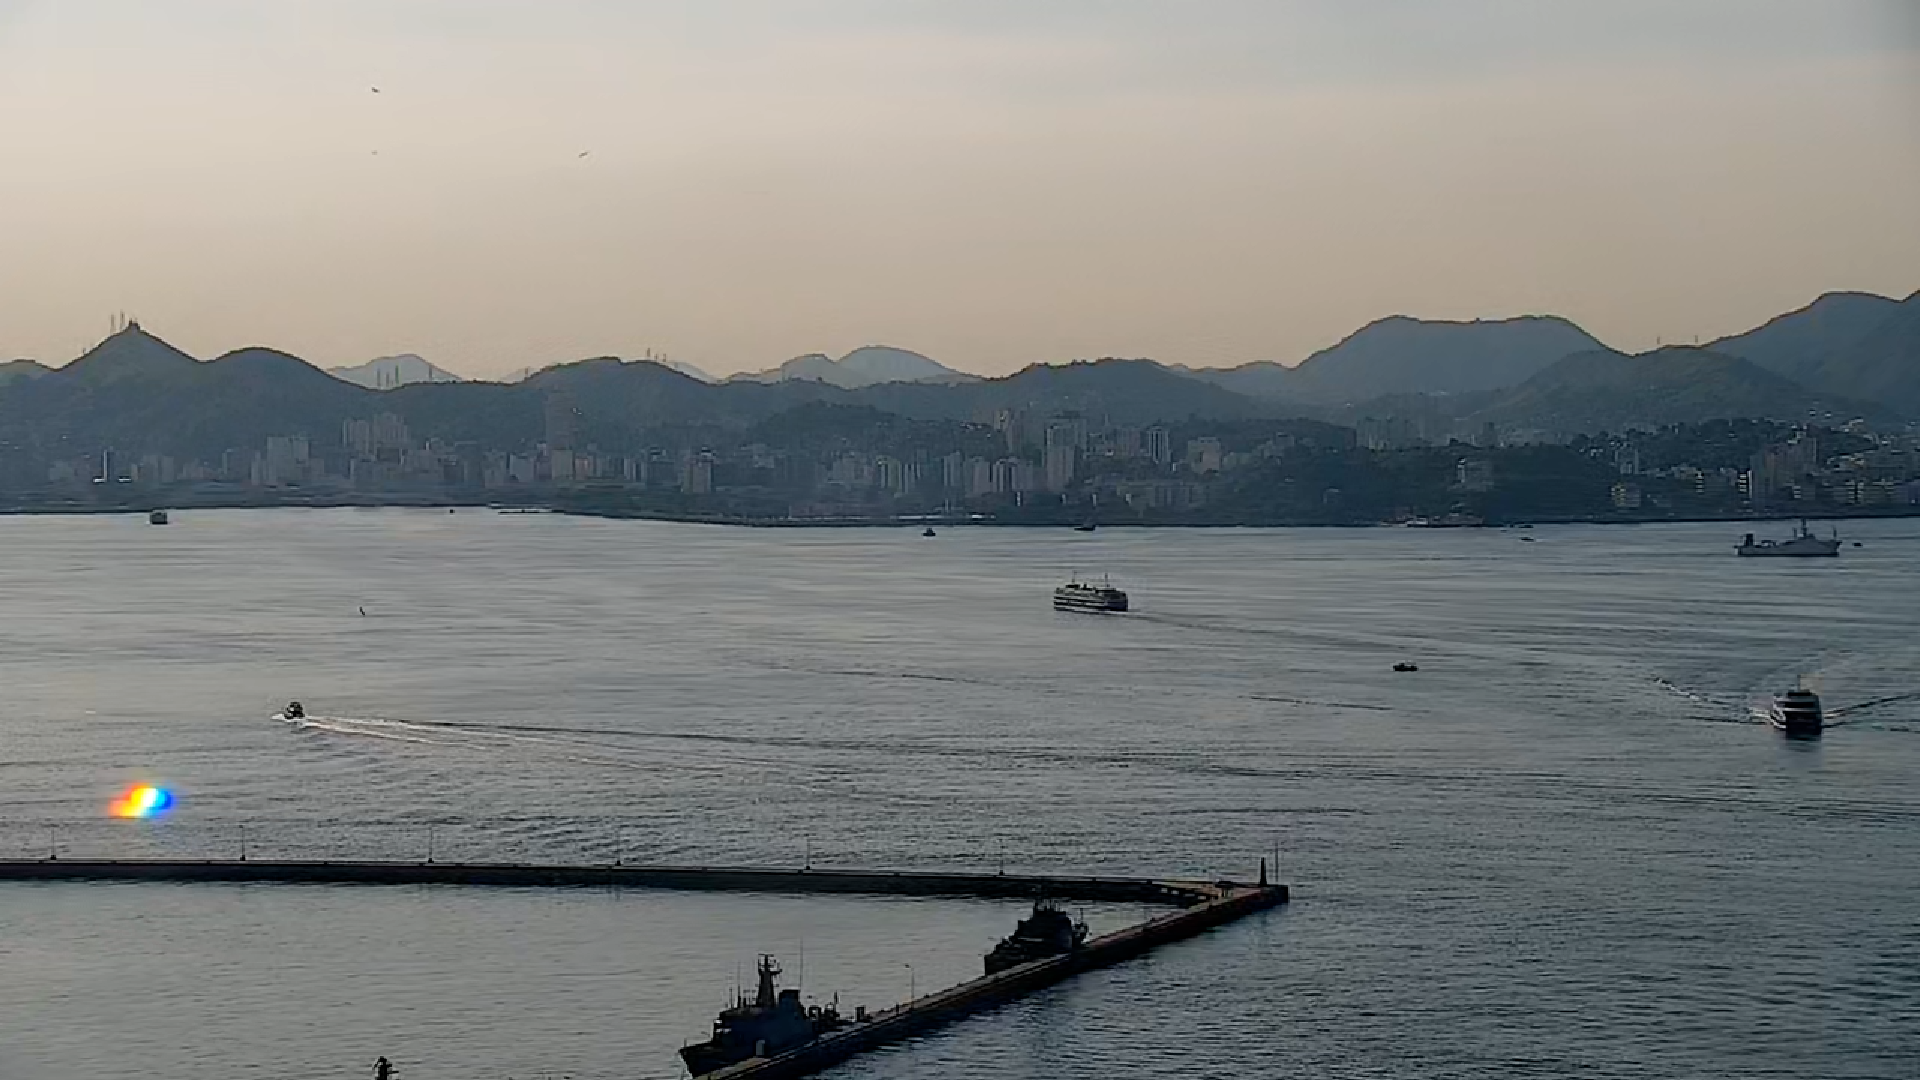Ship0: (974, 880, 1094, 969), (1731, 522, 1845, 560)
Ship1: (1047, 562, 1134, 617), (1763, 672, 1828, 742)
Ship5: (1072, 515, 1098, 533)
Ship6: (282, 698, 310, 721)
